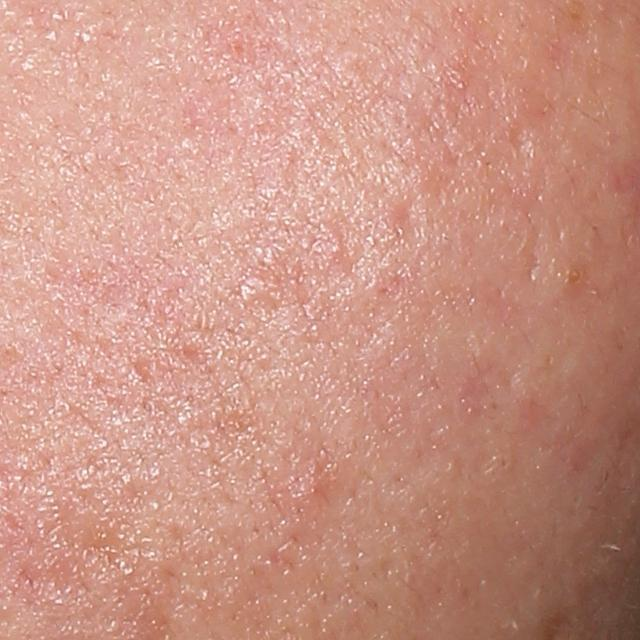atrophic_scar: (454, 360, 491, 421), (387, 194, 420, 238)
comedo: (561, 261, 589, 292)
